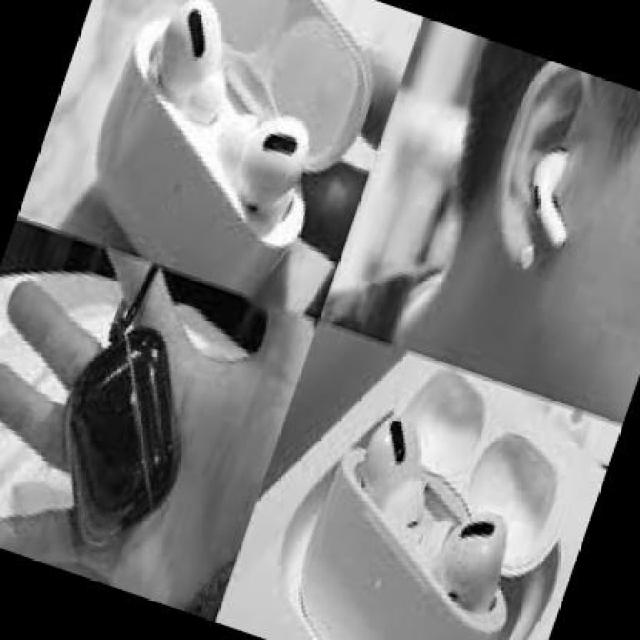earphone: (224, 103, 318, 237), (445, 497, 537, 605), (362, 402, 451, 506), (514, 129, 586, 241), (164, 8, 248, 97)
